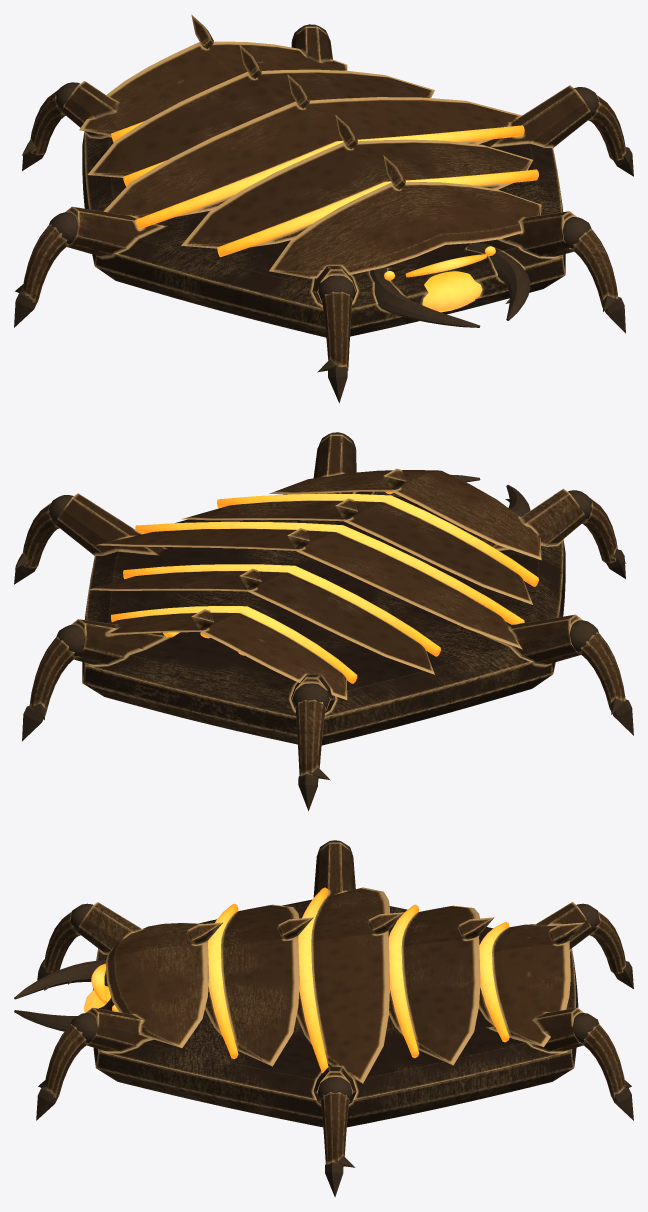
The model's file is bulwark.glb.
3 renders of one model, top to bottom at view 1: azimuth 30°, elevation 25°; view 2: azimuth 150°, elevation 25°; view 3: azimuth 270°, elevation 25°, orthographic. The views are drawn at different scales.
Parts seen in each view (by area): view 1: Bulwark, plate3, plate2, plate1, plate4, plate5, eyes, mandible_r, mandible_l; view 2: Bulwark, plate3, plate2, plate4, plate5, plate1; view 3: Bulwark, plate3, plate2, plate4, plate1, plate5, mandible_r, eyes, mandible_l.
Boxes of the visible parts, x1=… form: Bulwark: x1=14, y1=24, x2=633, y2=402; plate3: x1=103, y1=74, x2=524, y2=229; plate2: x1=181, y1=115, x2=538, y2=257; plate1: x1=269, y1=155, x2=541, y2=278; plate4: x1=87, y1=44, x2=434, y2=186; plate5: x1=79, y1=14, x2=347, y2=142; eyes: x1=384, y1=246, x2=495, y2=312; mandible_r: x1=370, y1=267, x2=480, y2=327; mandible_l: x1=467, y1=242, x2=530, y2=320; Bulwark: x1=14, y1=432, x2=633, y2=810; plate3: x1=96, y1=521, x2=524, y2=649; plate2: x1=181, y1=493, x2=538, y2=604; plate4: x1=88, y1=564, x2=440, y2=674; plate5: x1=105, y1=606, x2=357, y2=699; plate1: x1=269, y1=468, x2=541, y2=560; Bulwark: x1=36, y1=840, x2=633, y2=1196; plate3: x1=296, y1=887, x2=403, y2=1083; plate2: x1=205, y1=903, x2=313, y2=1066; plate4: x1=388, y1=904, x2=494, y2=1065; plate1: x1=105, y1=922, x2=222, y2=1047; plate5: x1=479, y1=922, x2=584, y2=1047; mandible_r: x1=14, y1=960, x2=106, y2=999; eyes: x1=83, y1=963, x2=118, y2=1012; mandible_l: x1=14, y1=1010, x2=77, y2=1031.
Size of the model in its own units: 1.33 by 0.3107 by 1.22.
Materials: 3 (3 with a texture image).
